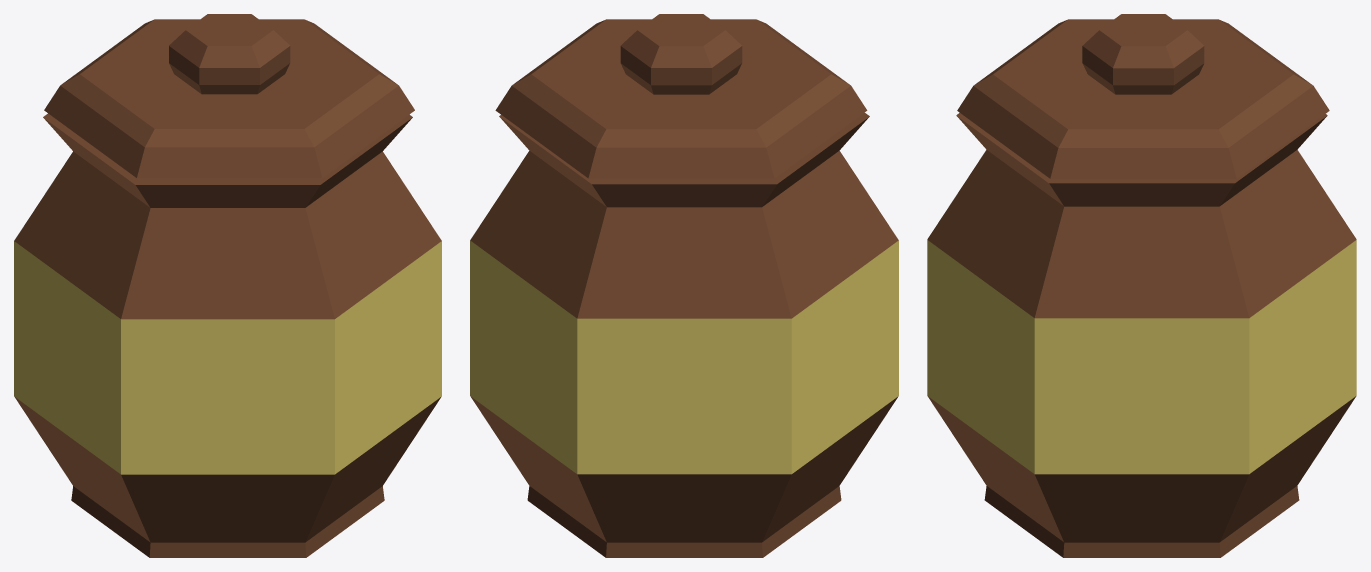
Rendered from Jar1.fbx.
3 views of the same model, side by side, from view 1: azimuth 30°, elevation 25°; view 2: azimuth 150°, elevation 25°; view 3: azimuth 270°, elevation 25° (orthographic).
Visible parts, largest first — view 1: Cylinder.006; view 2: Cylinder.006; view 3: Cylinder.006.
Part boxes in pixels (left/top/right/bottom): Cylinder.006: left=14, top=14, right=441, bottom=557; Cylinder.006: left=470, top=14, right=898, bottom=557; Cylinder.006: left=927, top=14, right=1356, bottom=557.
Bounding box in the file's own units: 10.14 × 14.18 × 11.71.
